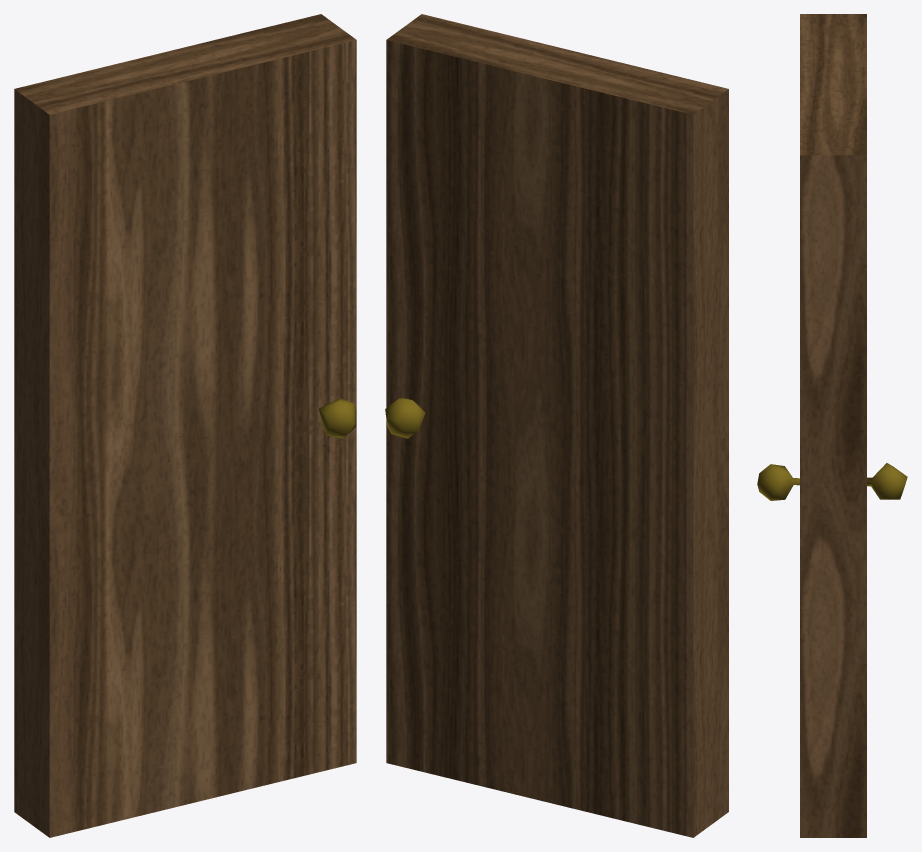
The model's file is door.glb.
The picture shows the model from 3 angles, left to right: view 1: azimuth 30°, elevation 25°; view 2: azimuth 150°, elevation 25°; view 3: azimuth 270°, elevation 25°; orthographic projection. The views are drawn at different scales.
Parts seen in each view (by area): view 1: Plane; view 2: Plane; view 3: Plane.
Boxes of the visible parts, x1,y1,x2,y2 form: Plane: (14,14,356,837); Plane: (385,14,728,837); Plane: (757,14,907,837).
Size of what is drawn, in the model's own units: 1 by 2.25 by 0.4496.
2 materials, 1 textured.
